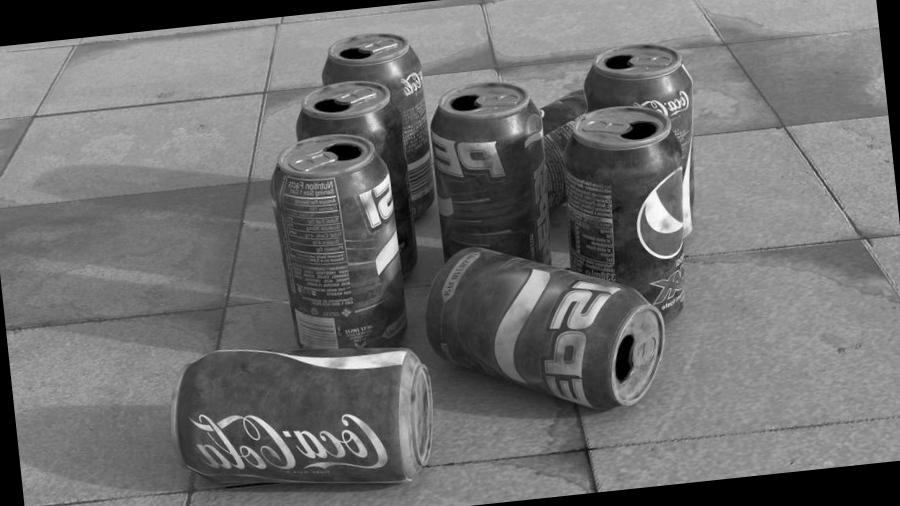metal: (431, 206, 698, 445), (151, 317, 449, 506), (236, 117, 435, 363), (543, 98, 710, 340), (403, 67, 571, 268), (566, 21, 718, 231), (322, 10, 452, 162)
